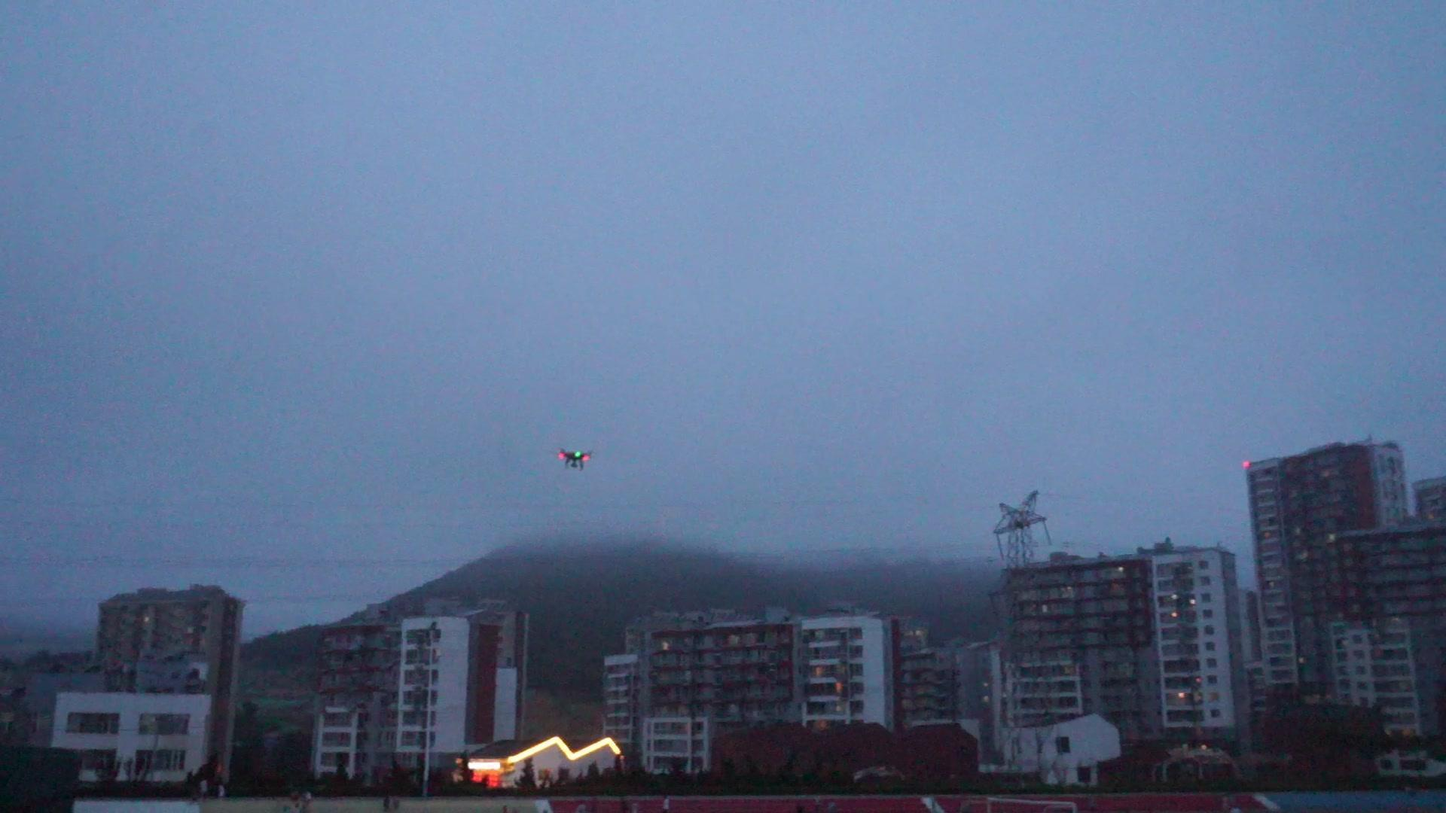UAV: (557, 449, 596, 472)
